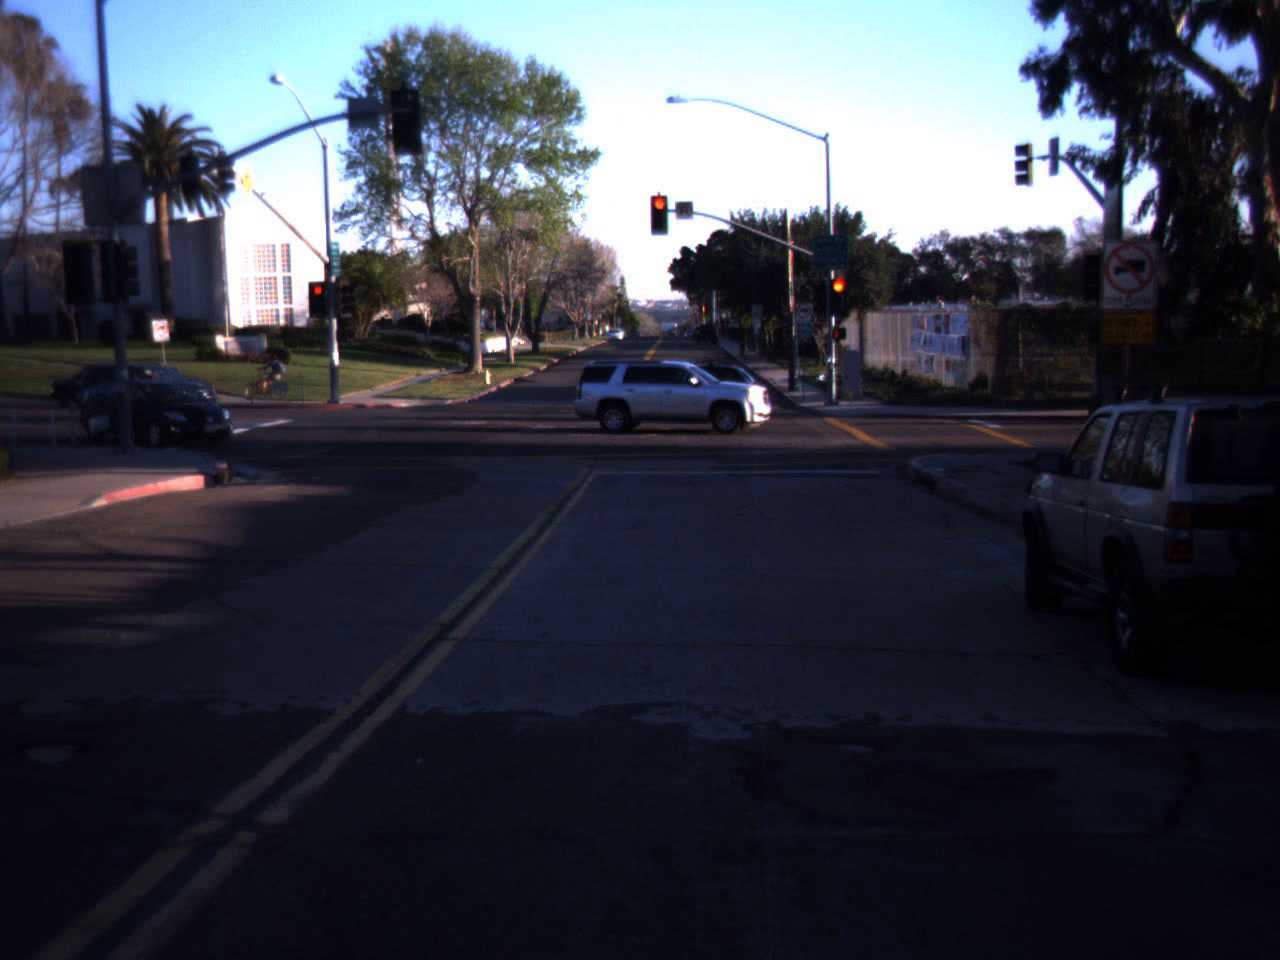stop: (824, 274, 854, 323), (646, 192, 673, 241), (310, 285, 325, 307)
